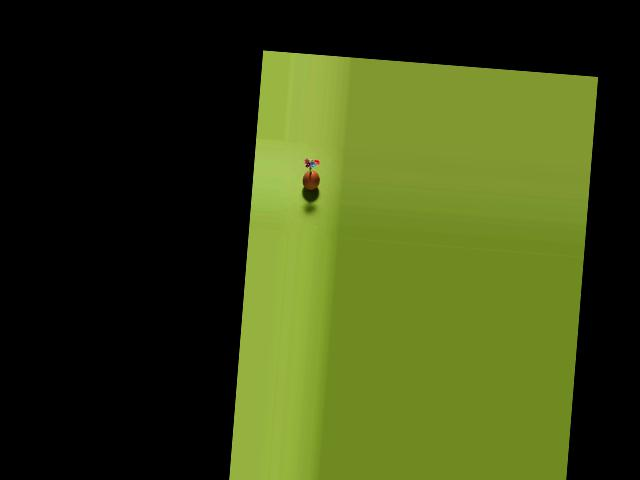egg: (301, 169, 319, 190)
